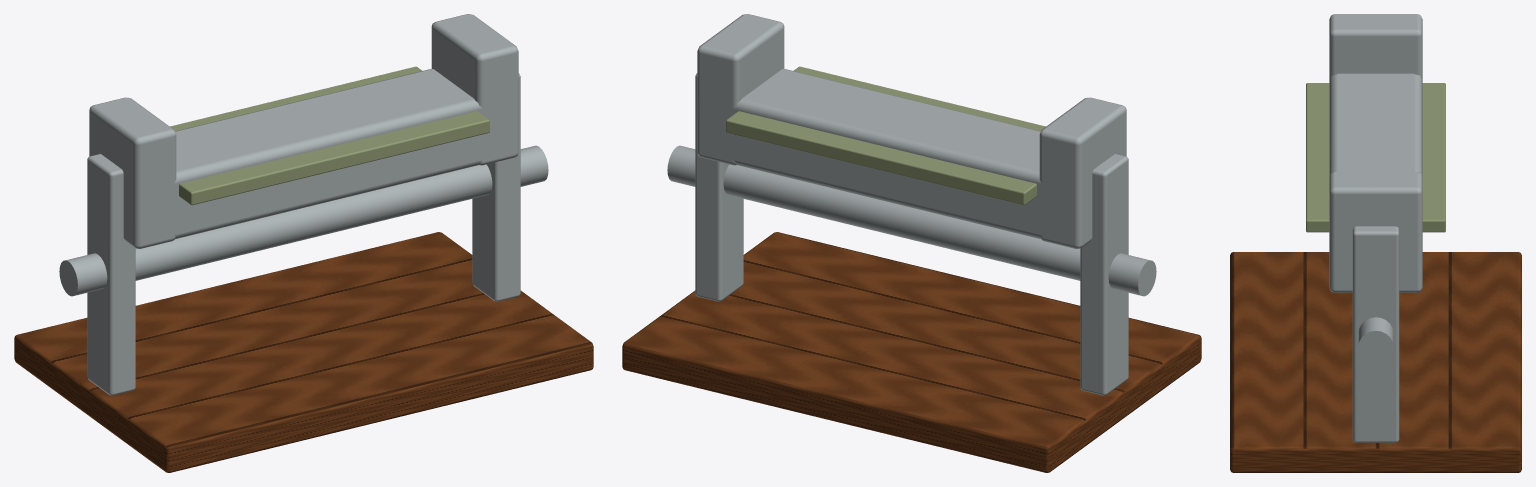
File: salvage-and-repair-workshop-circuit-board-holder-f91be26f__25453.glb
3 views of the same model, side by side, from view 1: azimuth 30°, elevation 25°; view 2: azimuth 150°, elevation 25°; view 3: azimuth 270°, elevation 25° (orthographic). The views are drawn at different scales.
Visible parts, largest first — view 1: circuit-board-holder; view 2: circuit-board-holder; view 3: circuit-board-holder.
Part boxes in pixels (x1=…): circuit-board-holder: x1=14, y1=14, x2=593, y2=472; circuit-board-holder: x1=622, y1=14, x2=1201, y2=472; circuit-board-holder: x1=1230, y1=14, x2=1521, y2=472.
Size of the model in its own units: 0.44 by 0.26 by 0.25.
3 materials, 1 textured.
